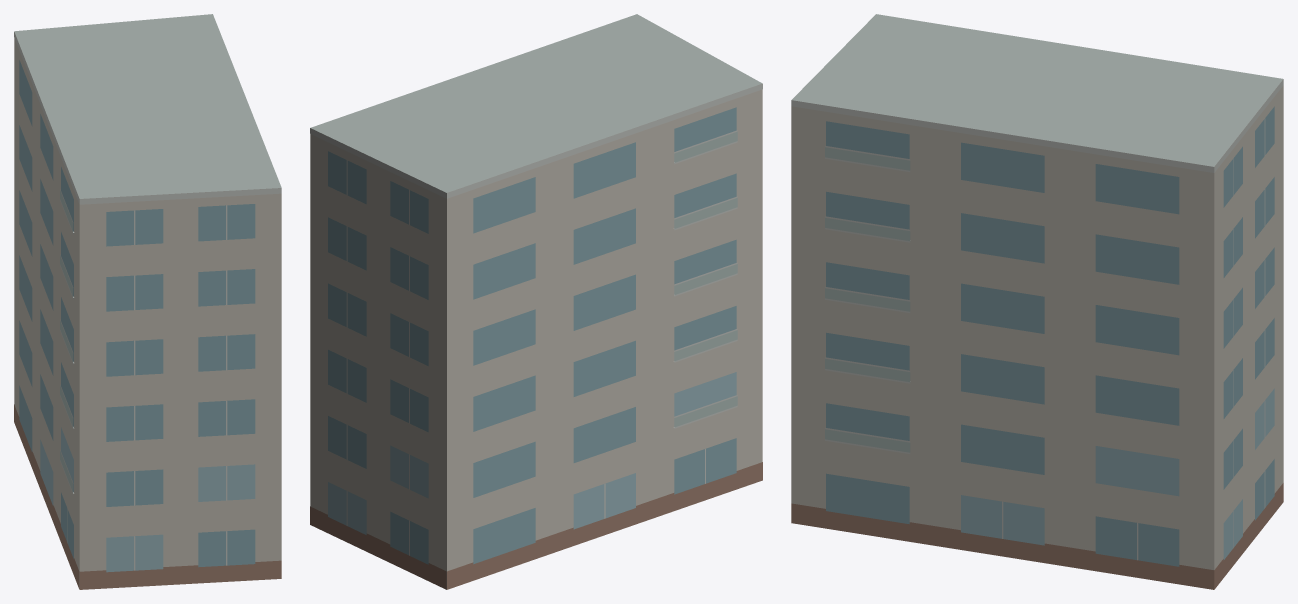
The model's file is survey-upis-32538297.glb.
The picture shows the model from 3 angles, left to right: view 1: azimuth 30°, elevation 25°; view 2: azimuth 150°, elevation 25°; view 3: azimuth 270°, elevation 25°; orthographic projection. The views are drawn at different scales.
Visible parts, largest first — view 1: survey-upis-32538297.tmp; view 2: survey-upis-32538297.tmp; view 3: survey-upis-32538297.tmp.
Part boxes in pixels (box(x1,y1,x2,y2)): survey-upis-32538297.tmp: box(14, 14, 281, 589); survey-upis-32538297.tmp: box(310, 14, 762, 589); survey-upis-32538297.tmp: box(791, 14, 1283, 589).
Bounding box in the file's own units: 12.88 × 16.6 × 17.52.
